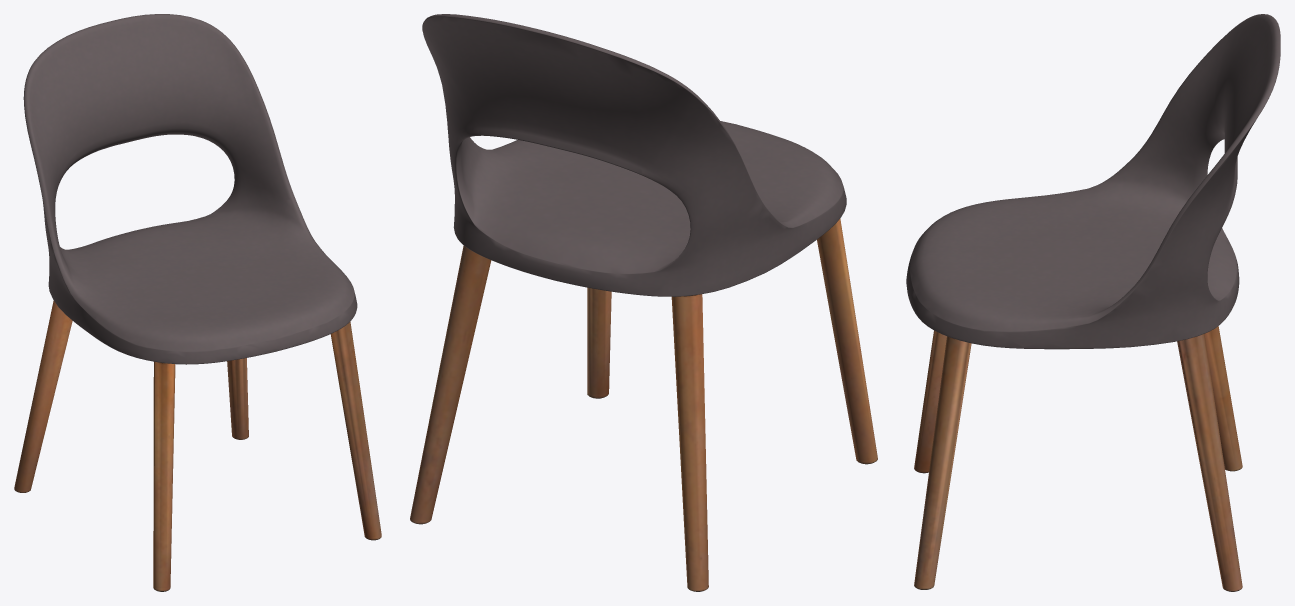
3 renders of one model, left to right at view 1: azimuth 30°, elevation 25°; view 2: azimuth 150°, elevation 25°; view 3: azimuth 270°, elevation 25°, orthographic. The views are drawn at different scales.
Visible parts, largest first — view 1: RootNode; view 2: RootNode; view 3: RootNode.
Boxes of the visible parts, <box> form: RootNode: <box>14,14,381,591</box>; RootNode: <box>410,14,877,591</box>; RootNode: <box>906,14,1280,591</box>.
Size of the model in its own units: 0.4666 by 0.79 by 0.5523.
1 material, 1 textured.
